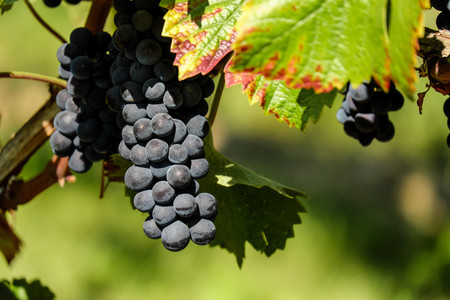Black grapes: (68, 26, 223, 248), (334, 59, 405, 147)
